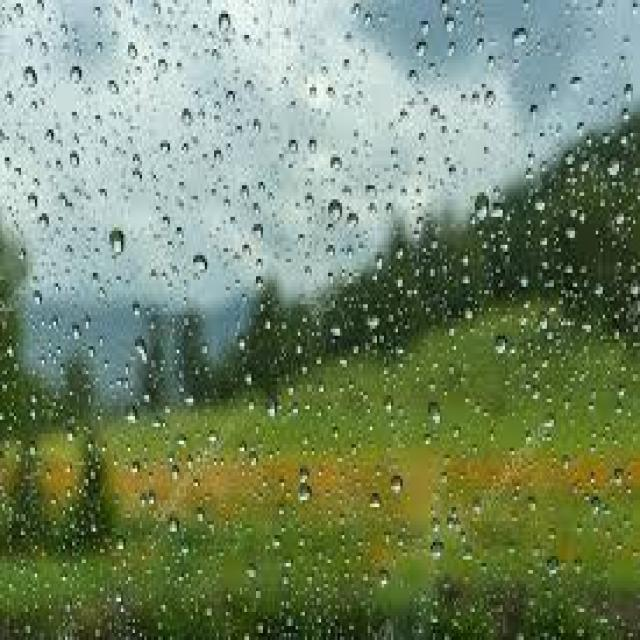raindrop: (102, 220, 132, 268), (472, 182, 500, 232), (210, 3, 238, 45), (324, 188, 349, 234), (507, 15, 533, 58)
